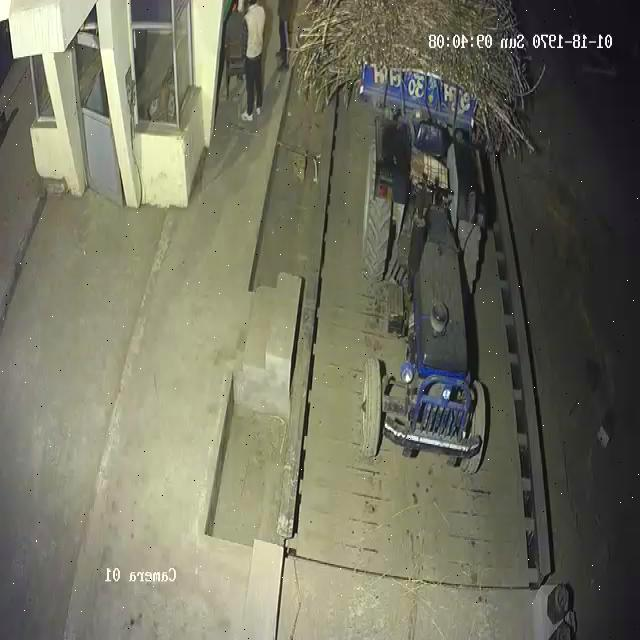Tratores - v5 YOLO V8L 2024-11-13: (358, 95, 484, 472)
